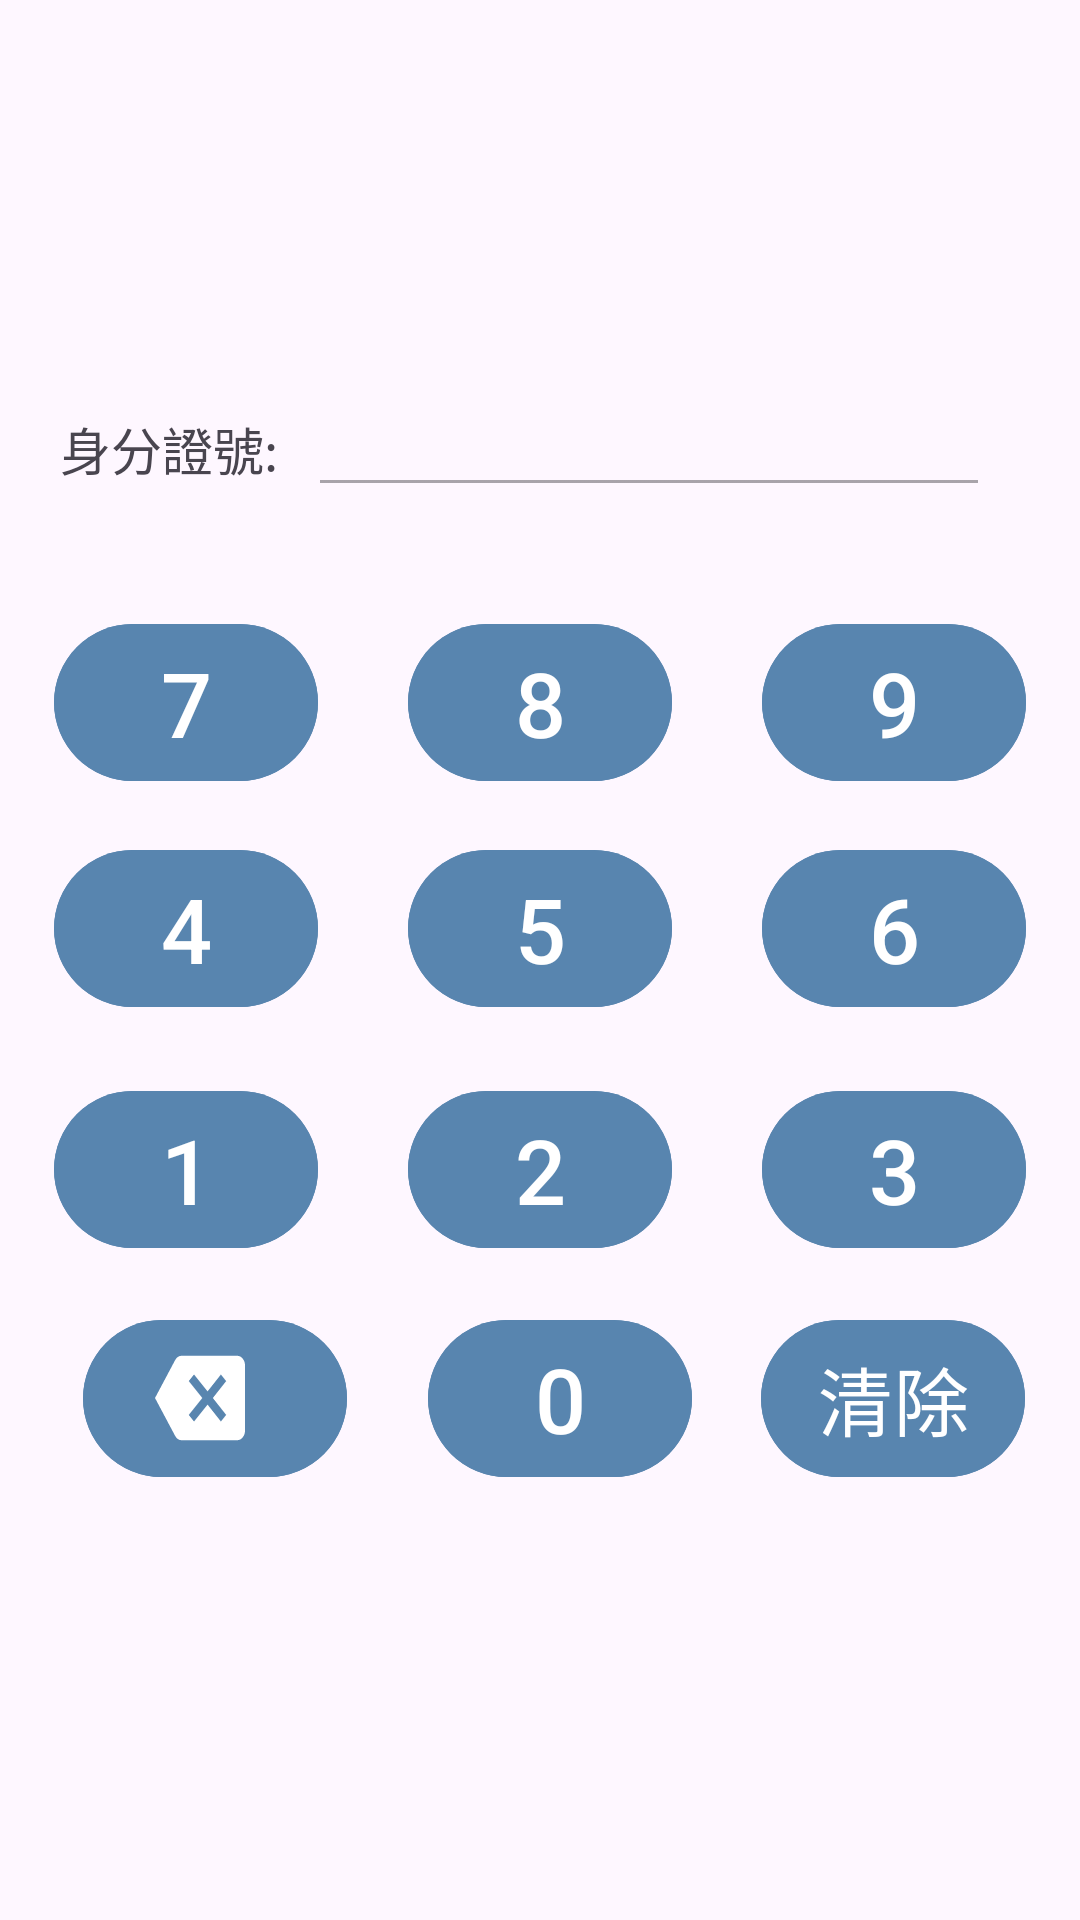

Point at icon controls on the screen. Image size 1080*1920, points as [x,y].
backspace: [215,1398]
